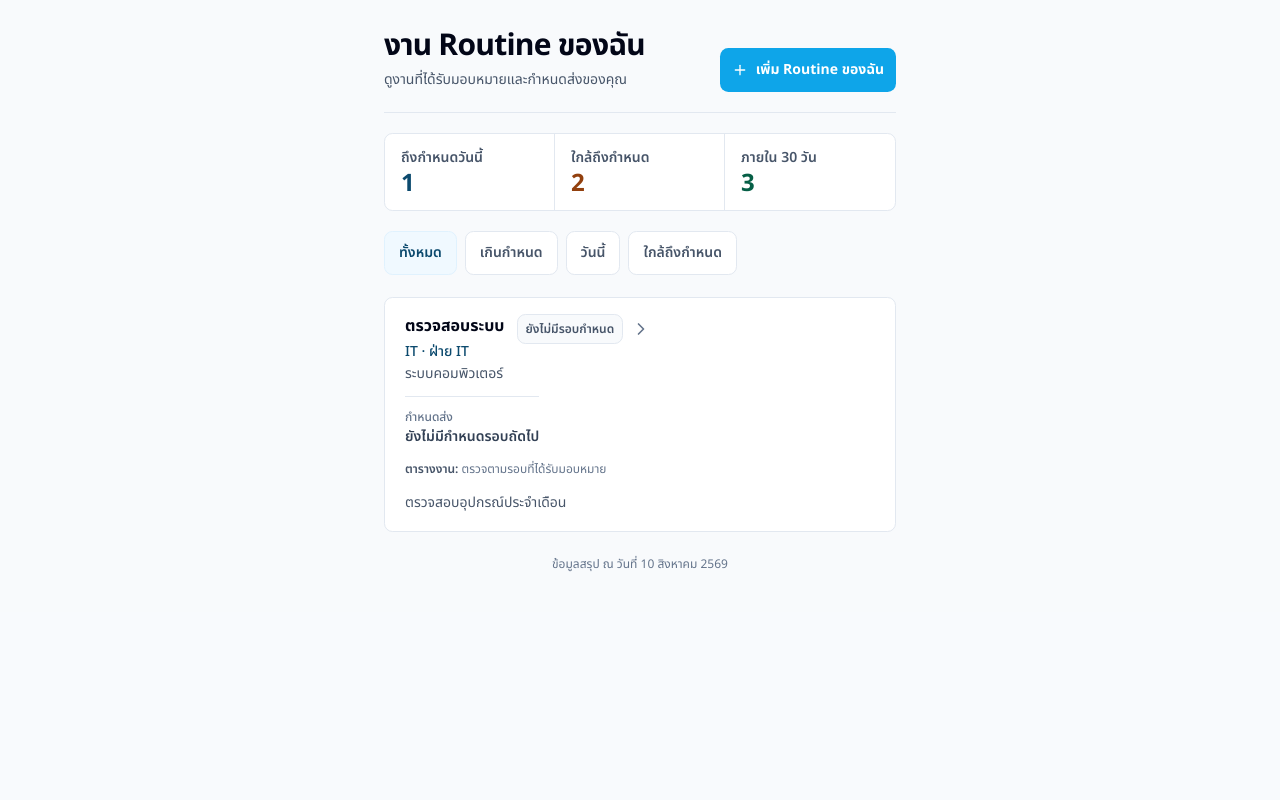
Test: LiffRoutineApp › shows an assigned master task edit control without delete access
Expected: the heading "ตรวจสอบระบบ" is shown, left=405, top=314, right=504, bottom=338
Click the button with aria-label "เปิดรายละเอียดงาน ตรวจสอบระบบ" at (455, 326), box left=385, top=298, right=895, bottom=531
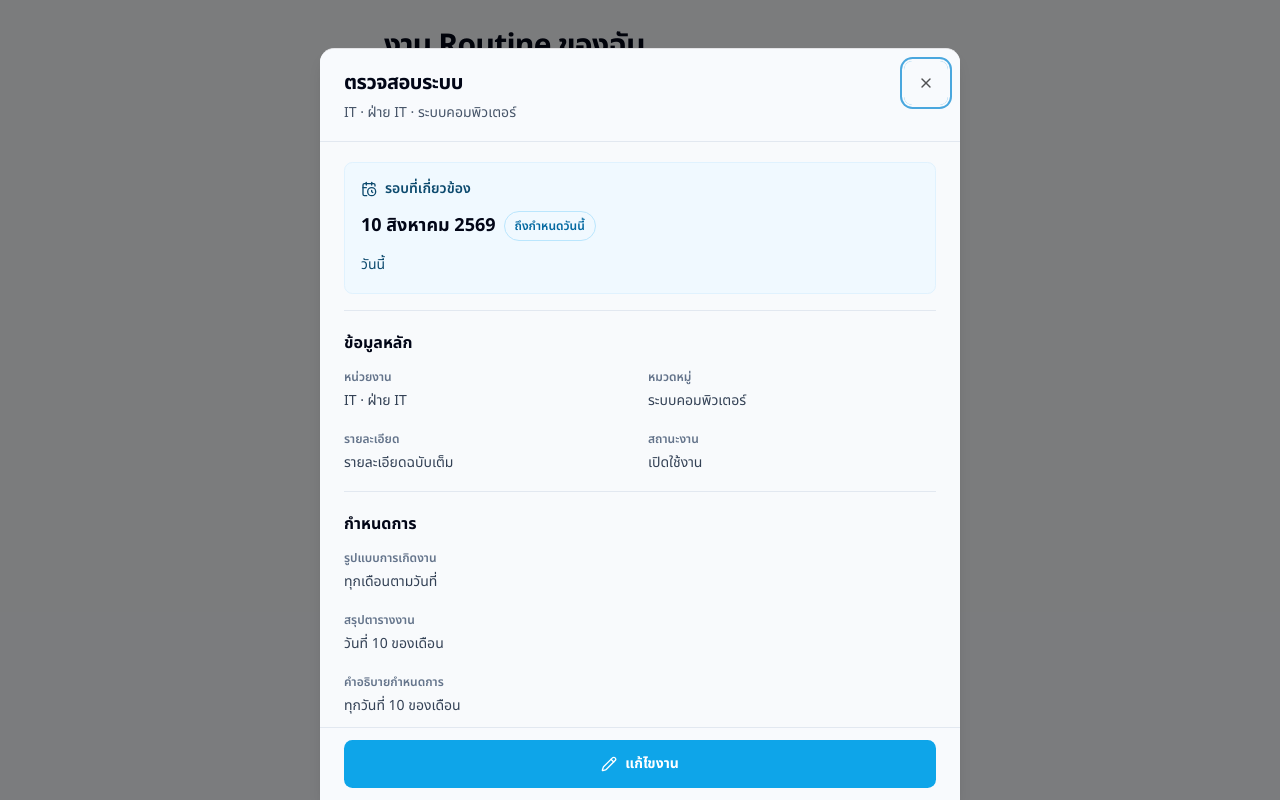
Expected: the text "รอบที่เกี่ยวข้อง" is shown, left=361, top=178, right=471, bottom=199
Expected: the button "แก้ไขงาน" is shown, left=344, top=740, right=936, bottom=788
